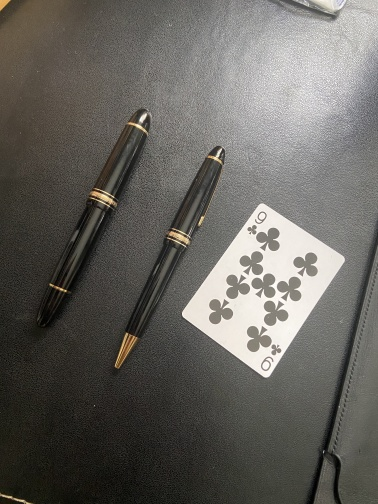nine: (180, 202, 347, 380)
